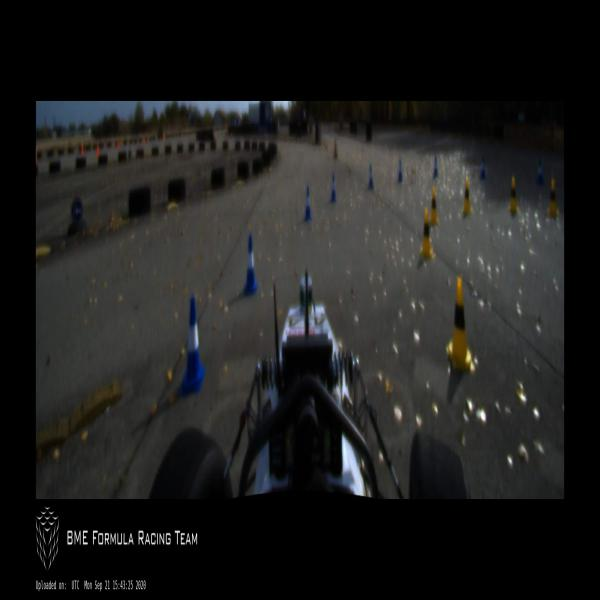blue_cone: (179, 294, 205, 395), (242, 235, 258, 292), (303, 187, 312, 218), (536, 157, 544, 185), (330, 173, 337, 203), (368, 163, 374, 190), (397, 160, 403, 182), (480, 156, 486, 177), (433, 157, 438, 178)
yellow_cone: (446, 278, 476, 372), (420, 208, 433, 256), (507, 176, 519, 213), (548, 180, 558, 215), (462, 179, 471, 213), (429, 189, 438, 223)
